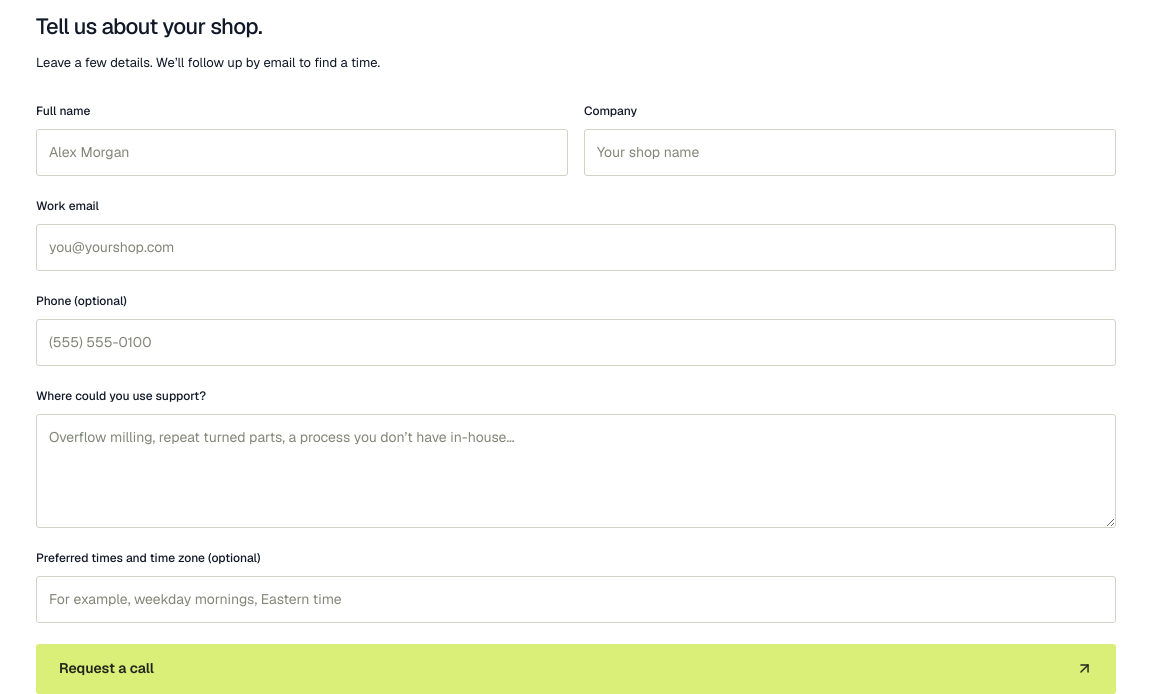
Scenario: Call request form feedback › keeps entered details available for retry after a server save failure
Type "Alex Shop" into the field labelled "Full name" at (302, 153), box left=36, top=129, right=568, bottom=176
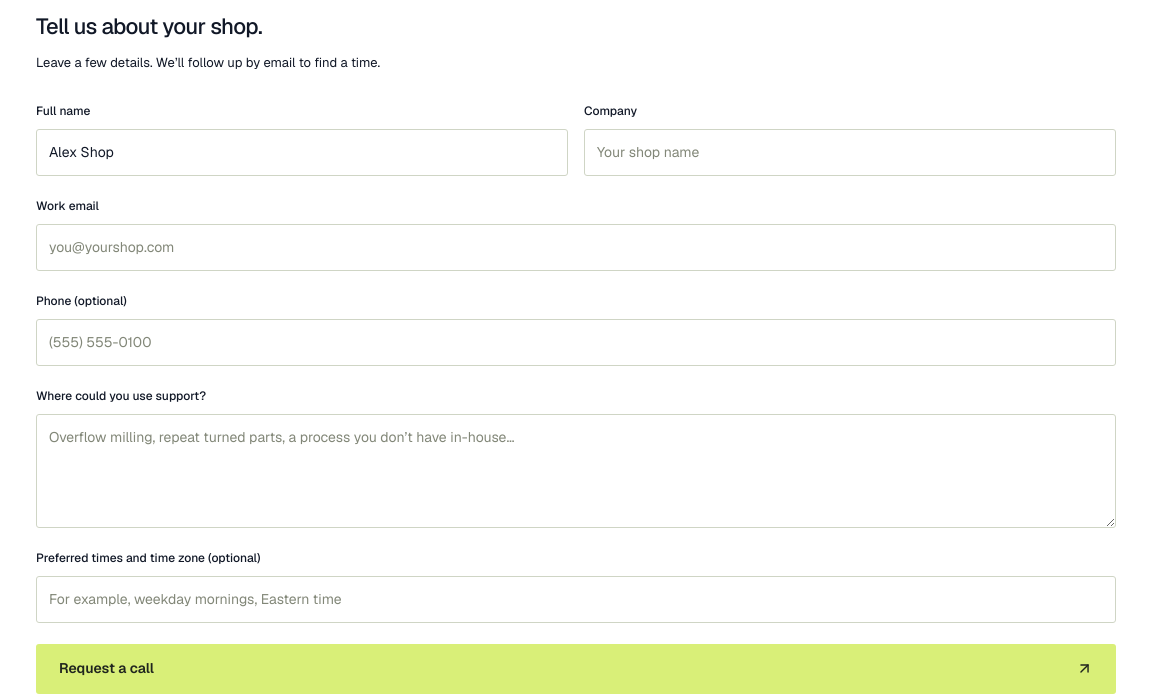
Type "Example Machining" into the field labelled "Company" at (850, 153), box left=584, top=129, right=1116, bottom=176
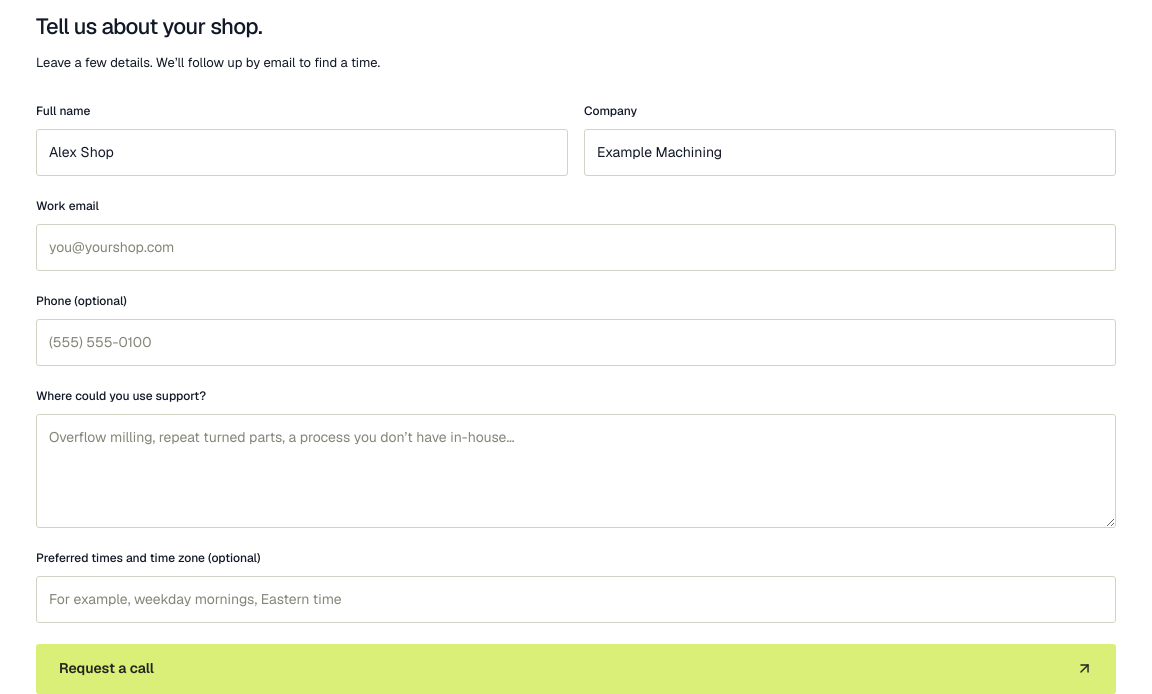
Type "alex@example.com" into the field labelled "Work email" at (576, 248), box left=36, top=224, right=1116, bottom=271
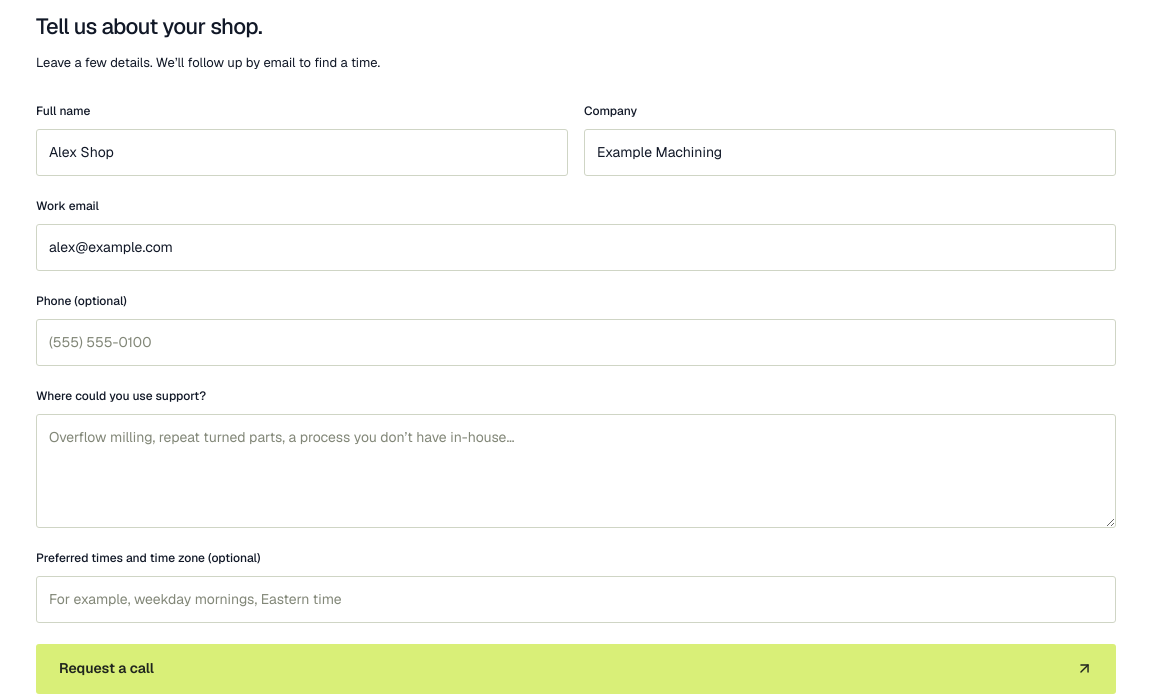
Replace the text in the text box labelled "Where could you use support?" with "Overflow milling" at (576, 471), box left=36, top=414, right=1116, bottom=528
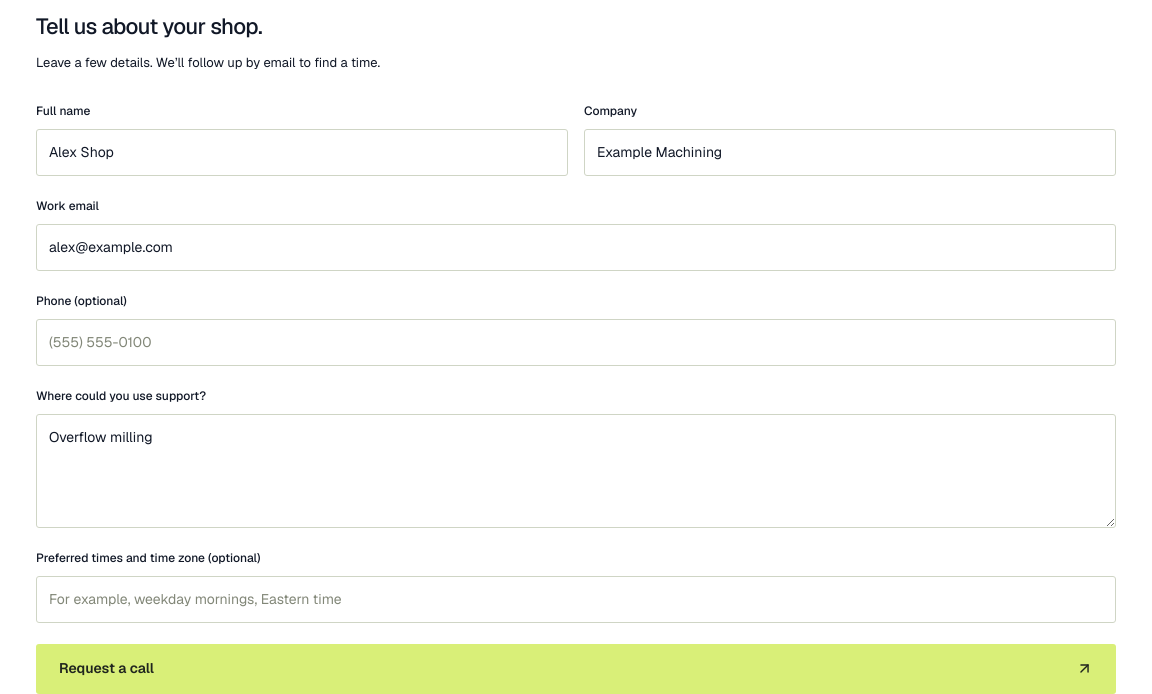
Click the button "Request a call" at (106, 668), box left=36, top=644, right=1116, bottom=693
(page scrolled)
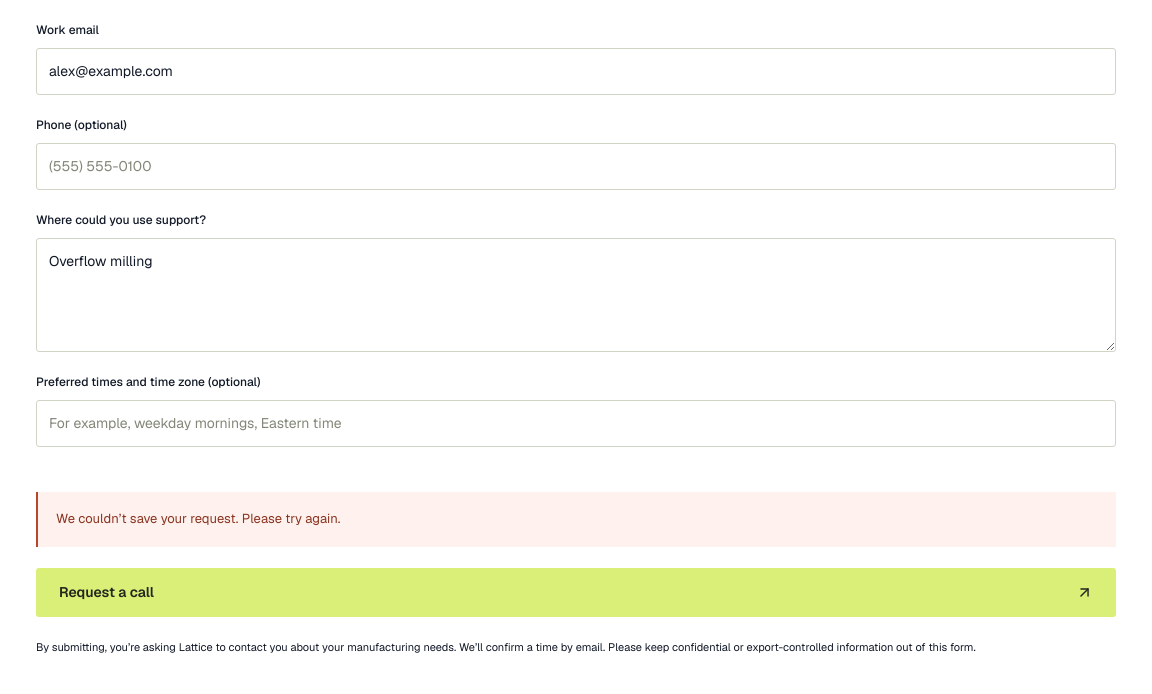
Expected: the button "Request a call" is enabled, left=36, top=568, right=1116, bottom=617
Expected: the message shows "try again", left=56, top=510, right=340, bottom=527
